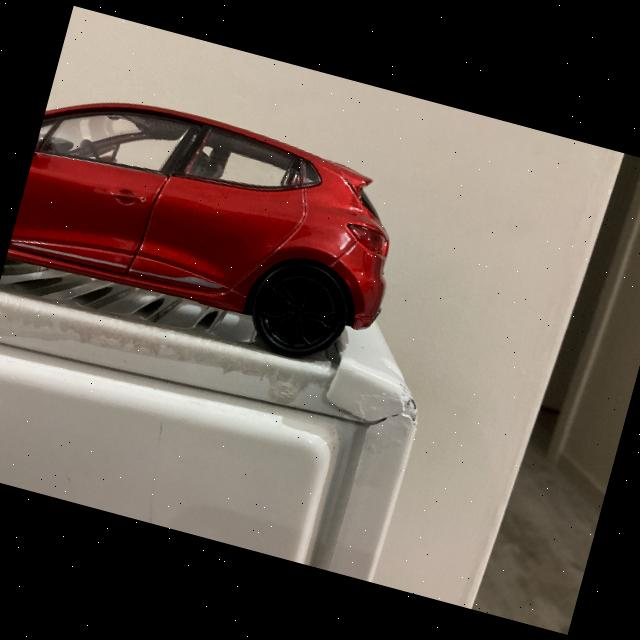Dogru_Jant: (254, 266, 343, 356)
